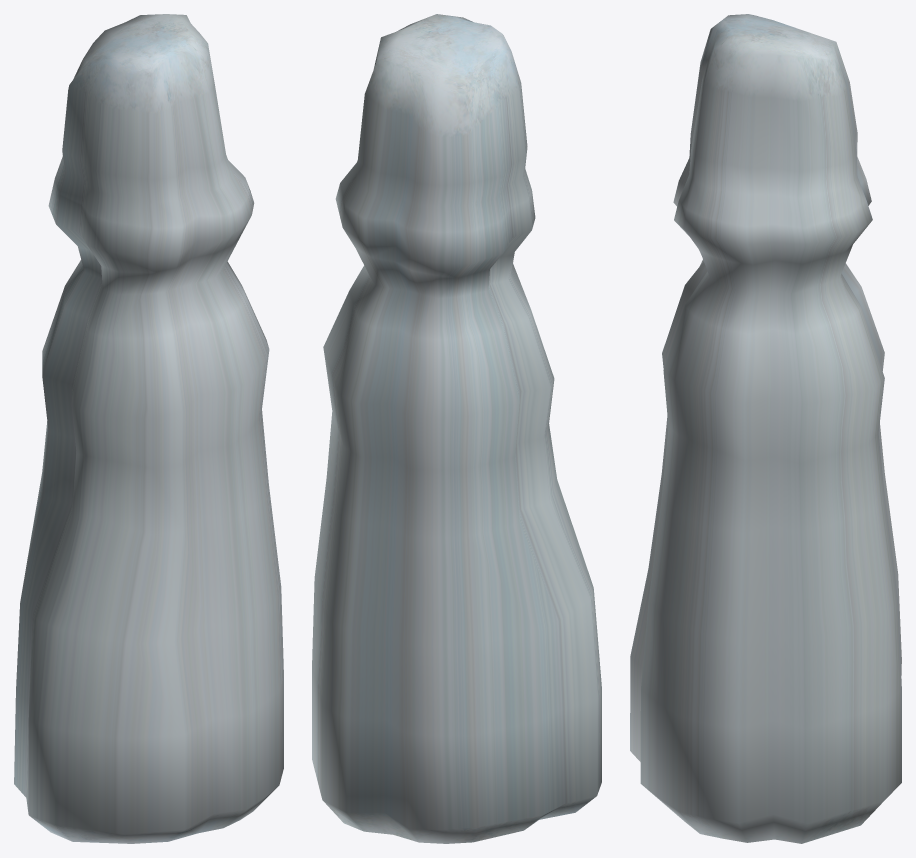
The model's file is P_RockDesert_HoodooCliff04.obj.
3 views of the same model, side by side, from view 1: azimuth 30°, elevation 25°; view 2: azimuth 150°, elevation 25°; view 3: azimuth 270°, elevation 25° (orthographic).
Size of the model in its own units: 19.31 by 57.55 by 18.09.
